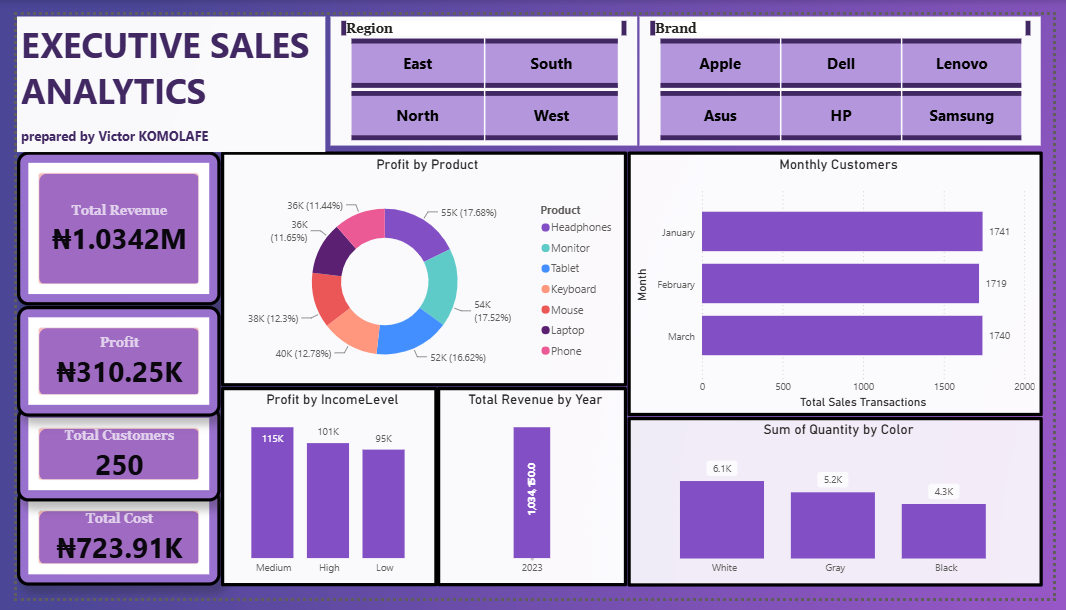

The dashboard page shown, as its layout file describes it:
{"tool":"powerbi","page":{"name":"PRODUCT SALES REPORT","canvas":[1280,720],"ordinal":0},"visuals":[{"type":"cardVisual","fields":{"Data":["Sales.Total Sales"]},"box":[0,169,251.6,190.2],"z":0},{"type":"cardVisual","fields":{"Data":["Sales.Total Cost"]},"box":[0,585.9,251.6,119.1],"z":1000},{"type":"cardVisual","fields":{"Data":["Sales.Total Customers"]},"box":[0,484.1,251.6,117.2],"z":2000},{"type":"cardVisual","fields":{"Data":["Sales.Profit"]},"box":[0,359.2,251.6,136.4],"z":3000},{"type":"donutChart","fields":{"Y":["Sales.Profit"],"Category":["Products.Product"]},"box":[251.6,169,501.4,290.1],"z":4000},{"type":"lineStackedColumnComboChart","fields":{"Category":["Products.Color"],"Y":["Sales.Sum of Quantity"]},"box":[753,495.6,512.9,209.4],"z":5000},{"type":"hundredPercentStackedColumnChart","fields":{"Y":["Sales.Total Revenue"],"Category":["Sales.Date.Variation.Date Hierarchy.Year"]},"box":[518.7,459.1,234.4,245.9],"z":6000},{"type":"barChart","title":"Monthly Customers","fields":{"Category":["Sales.Date.Variation.Date Hierarchy.Month"],"Y":["Sales.Total Sales Transactions"]},"box":[753,169,512.9,326.6],"z":7000},{"type":"clusteredColumnChart","fields":{"Category":["Customers.IncomeLevel"],"Y":["Sales.Profit"]},"box":[251.6,459.1,267,245.9],"z":8000},{"type":"slicer","fields":{"Values":["Customers.Region"]},"box":[386.1,1.9,378.4,159.4],"z":9000},{"type":"slicer","fields":{"Values":["Products.Brand"]},"box":[768.4,1.9,495.6,159.4],"z":11000},{"type":"textbox","box":[0,1.9,380.4,167.1],"z":12000}]}

Visuals, with their boxes in screenshot pixels (x1, y1, x2, y2), scaled from the page's 1280x720 canvas onto the 1066x610 screenshot:
cardVisual - Sales.Total Sales: Rect(0, 143, 210, 304)
cardVisual - Sales.Total Cost: Rect(0, 496, 210, 597)
cardVisual - Sales.Total Customers: Rect(0, 410, 210, 509)
cardVisual - Sales.Profit: Rect(0, 304, 210, 420)
donutChart - Sales.Profit x Products.Product: Rect(210, 143, 627, 389)
lineStackedColumnComboChart - Products.Color x Sales.Sum of Quantity: Rect(627, 420, 1054, 597)
hundredPercentStackedColumnChart - Sales.Total Revenue x Sales.Date.Variation.Date Hierarchy.Year: Rect(432, 389, 627, 597)
"Monthly Customers" barChart: Rect(627, 143, 1054, 420)
clusteredColumnChart - Customers.IncomeLevel x Sales.Profit: Rect(210, 389, 432, 597)
slicer - Customers.Region: Rect(322, 2, 637, 137)
slicer - Products.Brand: Rect(640, 2, 1053, 137)
textbox: Rect(0, 2, 317, 143)
